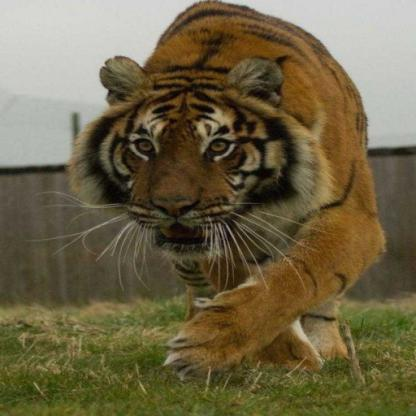Tiger: (38, 0, 416, 367)
